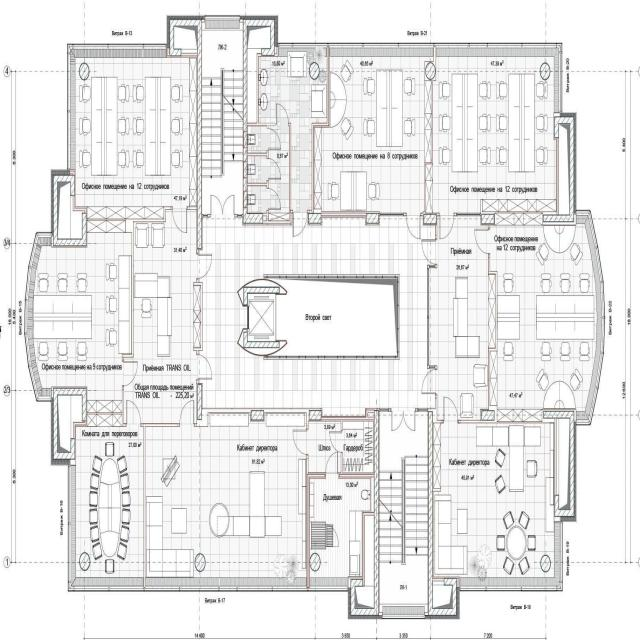Bathrooms: (310, 478, 370, 577), (259, 57, 327, 123), (247, 186, 266, 212), (248, 127, 267, 152), (247, 157, 266, 182)
Corridors: (200, 215, 435, 416), (124, 209, 197, 424), (429, 216, 488, 420), (269, 279, 397, 355), (379, 412, 428, 453), (291, 123, 312, 209), (269, 126, 289, 212), (309, 421, 341, 473), (343, 422, 374, 473), (202, 180, 243, 214)
Doors: (209, 192, 235, 217), (391, 408, 415, 432), (438, 212, 455, 241), (172, 205, 188, 235), (196, 252, 213, 280), (292, 429, 309, 457), (442, 396, 459, 424), (125, 399, 141, 428), (196, 354, 213, 381), (420, 238, 437, 265), (179, 399, 195, 427), (474, 227, 490, 255), (421, 368, 438, 394), (406, 213, 422, 240), (293, 210, 308, 238), (122, 361, 138, 387), (325, 450, 339, 478), (328, 430, 343, 455), (267, 157, 282, 180), (267, 128, 282, 150), (267, 189, 282, 211), (275, 102, 289, 125), (247, 305, 249, 330)
LBwalls: (166, 15, 205, 250), (239, 15, 278, 226), (425, 411, 460, 619), (348, 409, 382, 620), (543, 112, 577, 226), (543, 408, 576, 522), (51, 169, 87, 248), (51, 386, 87, 465), (244, 286, 280, 306), (243, 332, 280, 349), (79, 551, 90, 572), (539, 62, 551, 81), (309, 553, 321, 572), (194, 553, 206, 572), (309, 61, 320, 80), (540, 554, 551, 573), (79, 62, 90, 81), (425, 62, 436, 80), (197, 384, 202, 420), (251, 409, 264, 421), (309, 409, 321, 421), (481, 410, 495, 420), (481, 214, 494, 224), (424, 214, 436, 224), (366, 213, 378, 223), (309, 213, 321, 223)
Offices: (145, 413, 306, 577), (490, 225, 597, 411), (433, 57, 556, 213), (433, 423, 554, 577), (322, 57, 433, 212), (76, 58, 189, 206), (33, 233, 132, 400), (76, 427, 143, 577)
Stairs: (380, 453, 428, 604), (202, 30, 243, 180)
Walls: (87, 206, 173, 361), (307, 46, 380, 226), (263, 274, 400, 360), (480, 253, 543, 423), (140, 422, 181, 588), (167, 55, 197, 210), (263, 122, 294, 226), (247, 26, 276, 129), (415, 393, 444, 492), (194, 408, 323, 430), (306, 455, 326, 588), (481, 198, 557, 226), (424, 46, 436, 213), (322, 407, 392, 431), (87, 386, 127, 427), (237, 328, 287, 357), (237, 278, 287, 307), (362, 478, 374, 586), (427, 264, 437, 370), (339, 452, 374, 479), (193, 278, 203, 355), (247, 150, 269, 159), (247, 180, 269, 189), (454, 212, 481, 218), (379, 212, 406, 215), (458, 420, 480, 423), (234, 214, 243, 218), (435, 223, 437, 240), (202, 214, 210, 218), (196, 378, 200, 383), (197, 250, 200, 255), (488, 224, 490, 230), (437, 212, 440, 216), (420, 212, 423, 216)
Windows: (68, 465, 347, 591), (278, 43, 563, 113), (67, 44, 167, 170), (460, 522, 563, 592), (576, 210, 605, 425), (24, 231, 51, 402), (382, 605, 425, 619), (205, 15, 240, 29)
